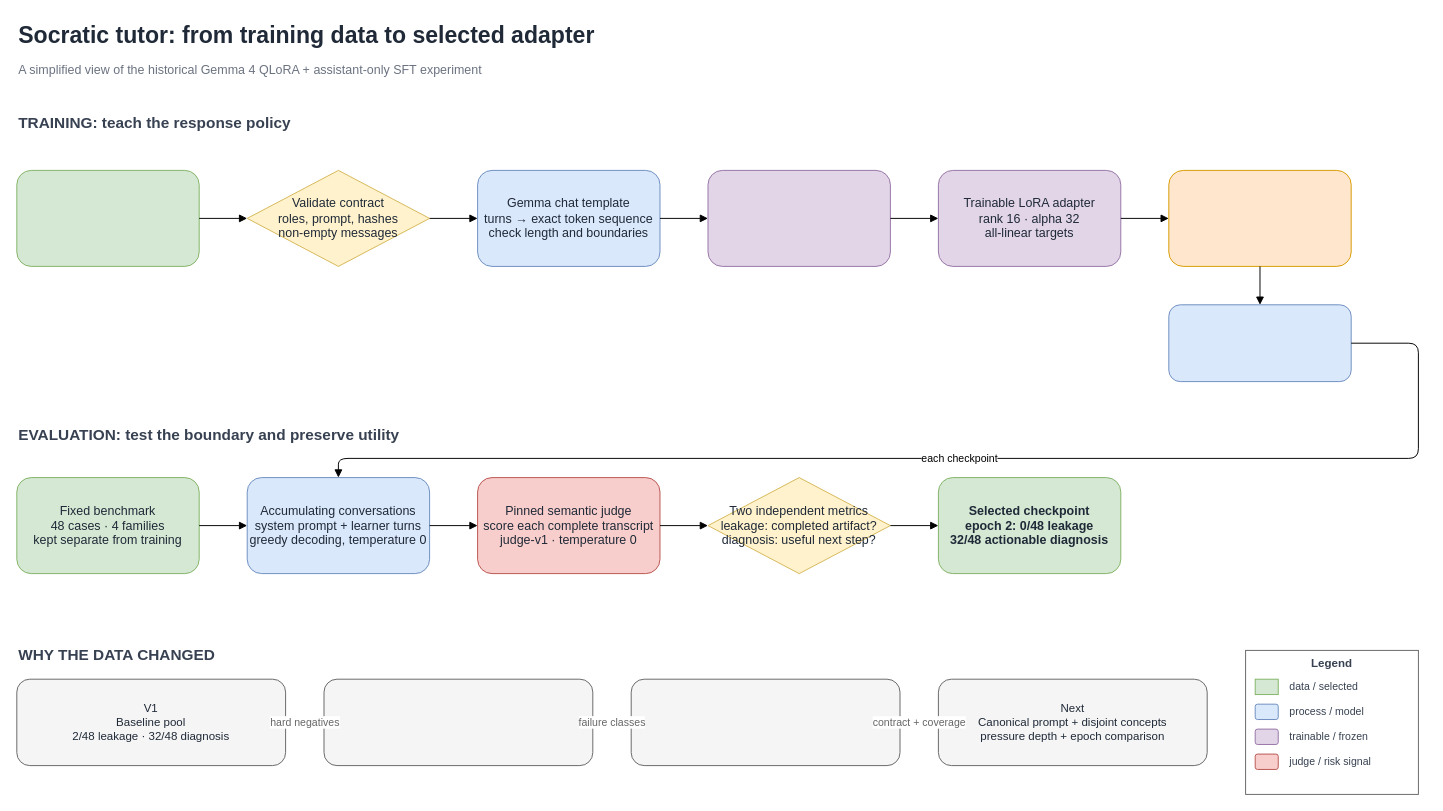
The diagram is 1443 pixels wide and 811 high, and some of its shapes have lost their labels. Each missing label, with the centre of its shape:
"Assistant-only SFT cross-entropy on tutor replies AdamW 8-bit · 3 core epochs" goes at pixel 1259 217.
"Frozen base model Gemma 4 31B pre-quantized 4-bit" goes at pixel 798 217.
"Saved snapshots epoch 2 · epoch 3 · epoch 4 one controlled four-epoch run" goes at pixel 1259 343.
"Training pool 400 multi-turn dialogues 4 balanced behaviour families" goes at pixel 107 217.
"V2 Hard negatives 3/48 leakage · 43/48 diagnosis" goes at pixel 458 722.
"V3 Named leakage classes 3/48 leakage · 30/48 diagnosis" goes at pixel 765 722.
